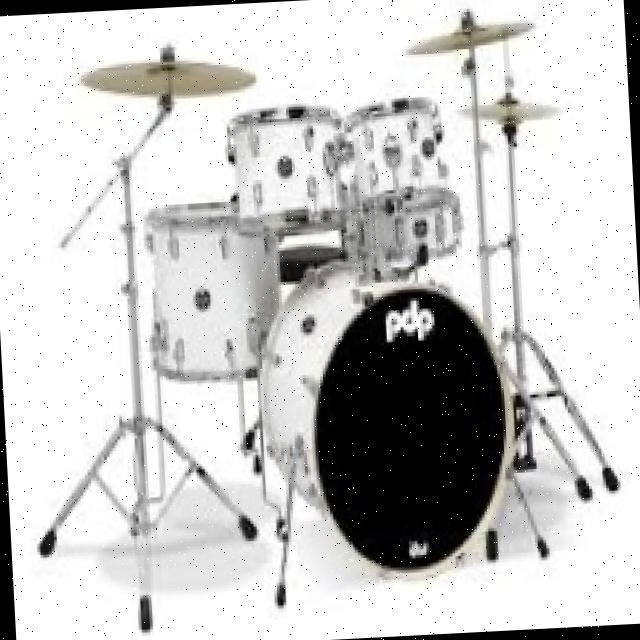drums: (35, 3, 628, 612)
